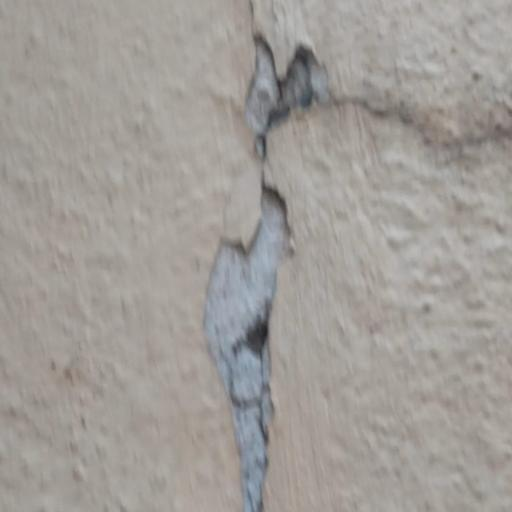peeling: (189, 13, 326, 512), (310, 58, 512, 176)
